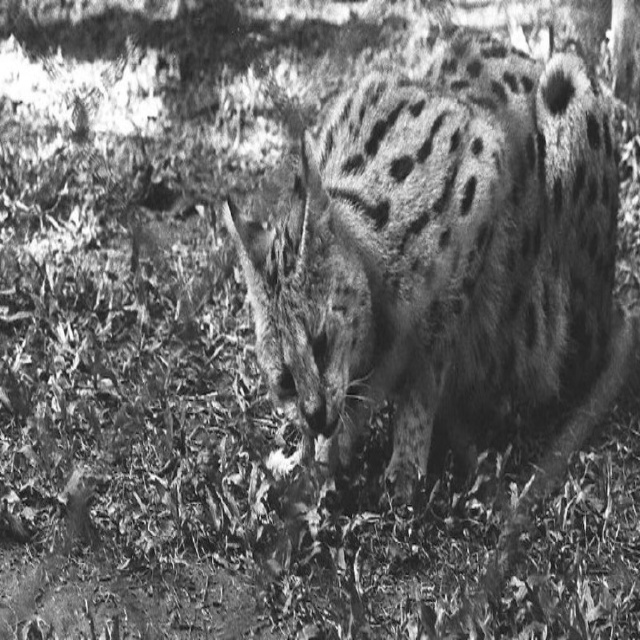Lynx: (222, 21, 619, 514)
